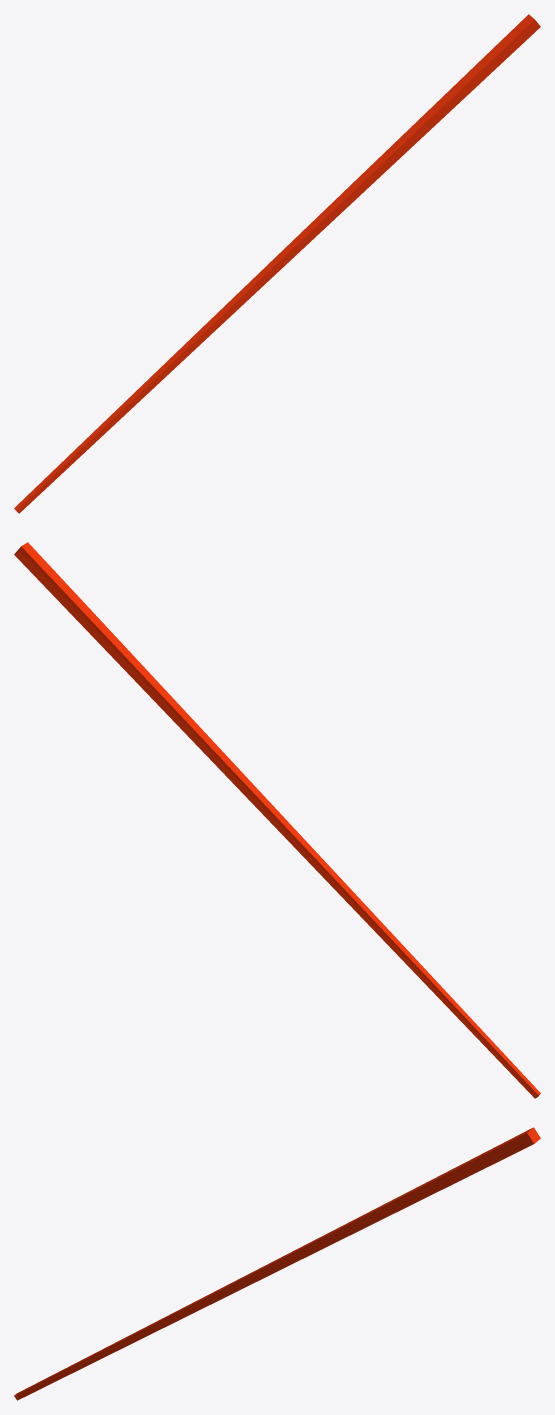
File: Event_421364160_EBrechit_35.fbx
3 views of the same model, one above another, from view 1: azimuth 30°, elevation 25°; view 2: azimuth 150°, elevation 25°; view 3: azimuth 330°, elevation 25° (orthographic). The views are drawn at different scales.
Parts seen in each view (by area): view 1: Model; view 2: Model; view 3: Model.
Part boxes in pixels (bbox=[...]): Model: bbox=[14, 14, 540, 513]; Model: bbox=[14, 542, 540, 1098]; Model: bbox=[14, 1127, 540, 1400].
Bounding box in the file's own units: 6.31 × 4.61 × 0.453.
